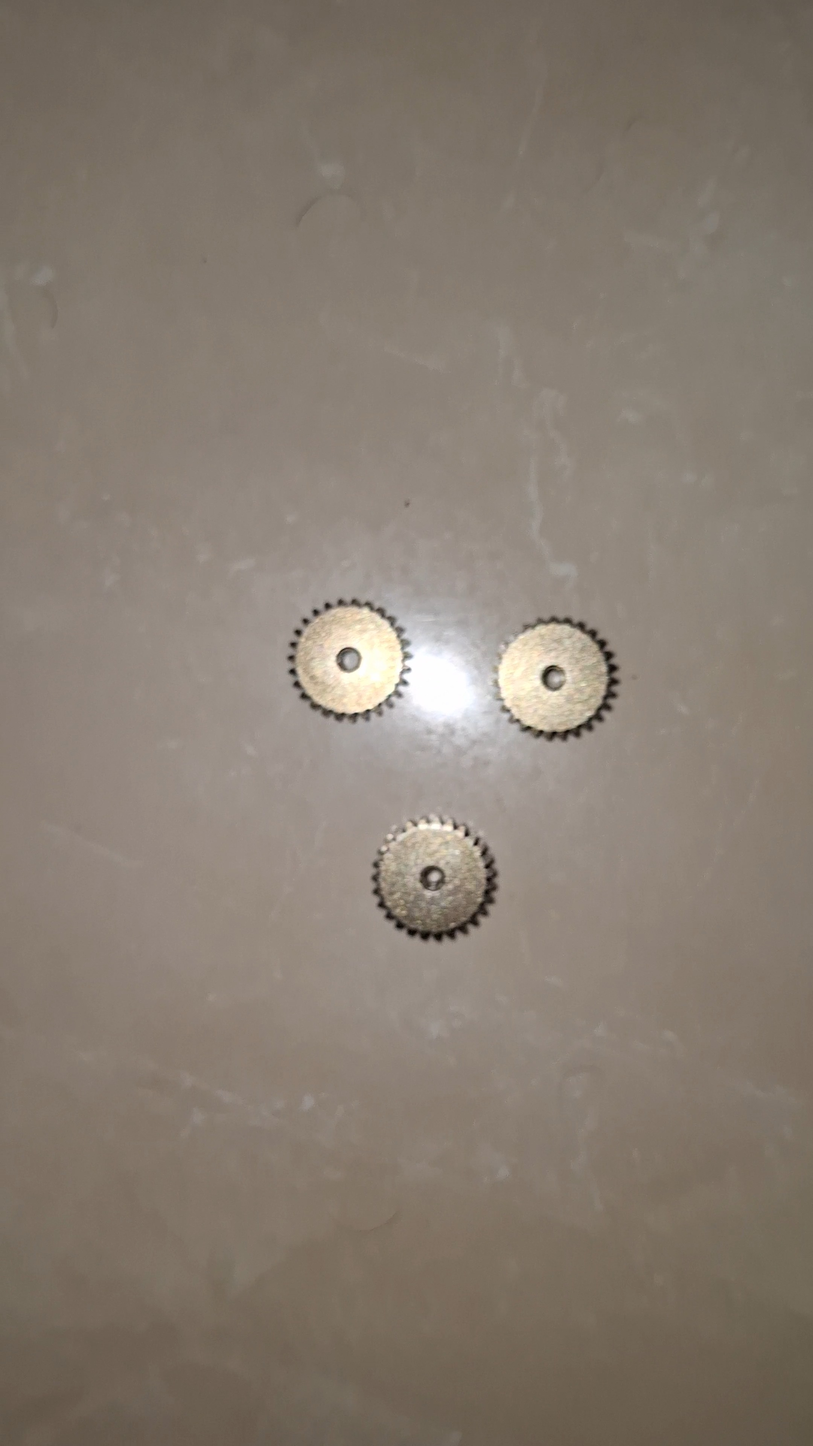spur gear: (373, 816, 496, 939), (289, 600, 410, 719), (496, 619, 617, 738)
